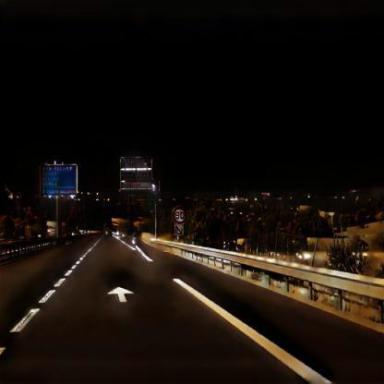Speed_limit_90: (173, 207, 188, 224)
